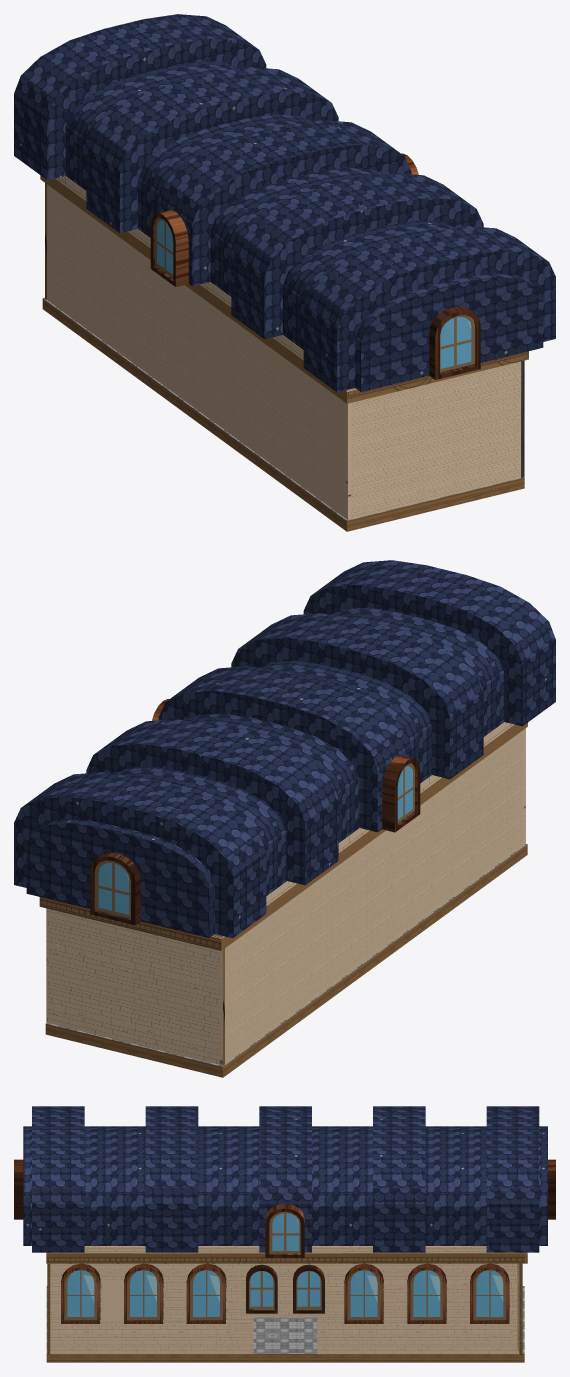
The model's file is sala4.obj.
3 renders of one model, top to bottom at view 1: azimuth 30°, elevation 25°; view 2: azimuth 150°, elevation 25°; view 3: azimuth 270°, elevation 25°, orthographic. The views are drawn at different scales.
Parts seen in each view (by area): view 1: SalaEscultura; view 2: SalaEscultura; view 3: SalaEscultura.
Part boxes in pixels (x1=…): SalaEscultura: x1=14, y1=14, x2=555, y2=531; SalaEscultura: x1=14, y1=560, x2=555, y2=1077; SalaEscultura: x1=14, y1=1106, x2=555, y2=1362.
Bounding box in the file's own units: 14.1 × 14.11 × 34.48.
Materials: 9 (7 with a texture image).
